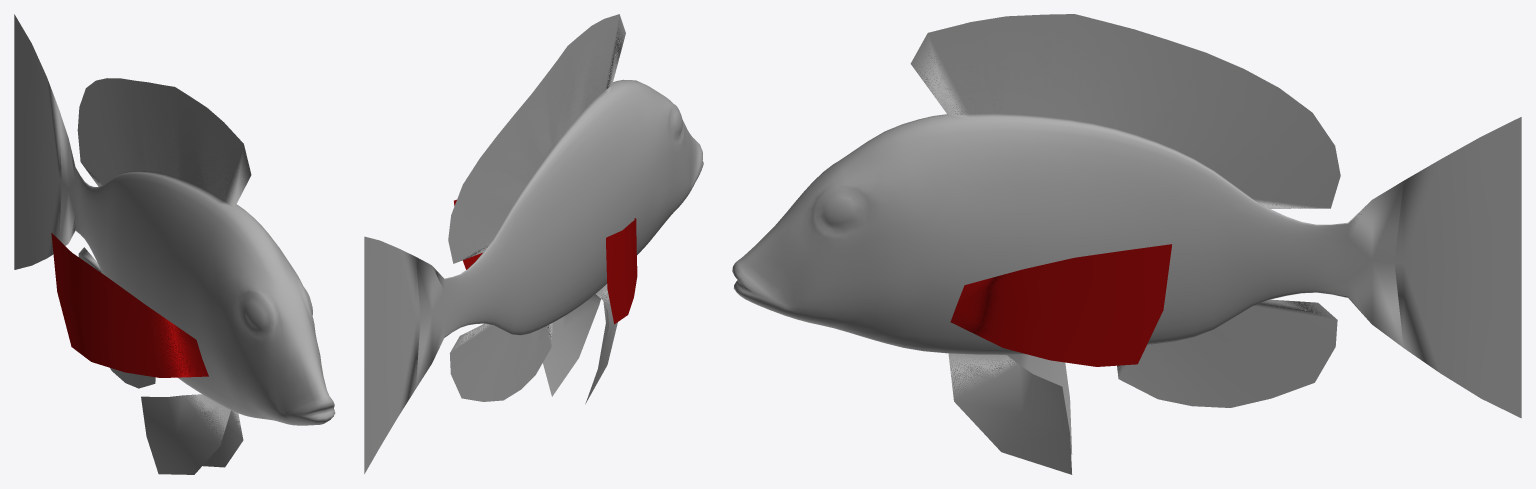
File: Lethrinidae_A.fbx
The picture shows the model from 3 angles, left to right: view 1: azimuth 30°, elevation 25°; view 2: azimuth 150°, elevation 25°; view 3: azimuth 270°, elevation 25°; orthographic projection. The views are drawn at different scales.
Parts seen in each view (by area): view 1: Lethrinidae_A_LOD0; view 2: Lethrinidae_A_LOD0; view 3: Lethrinidae_A_LOD0.
Boxes of the visible parts, x1=… form: Lethrinidae_A_LOD0: x1=14, y1=14, x2=335, y2=474; Lethrinidae_A_LOD0: x1=364, y1=14, x2=703, y2=473; Lethrinidae_A_LOD0: x1=732, y1=14, x2=1521, y2=474.
Size of what is drawn, in the model's own units: 0.2867 by 0.6415 by 1.02.
